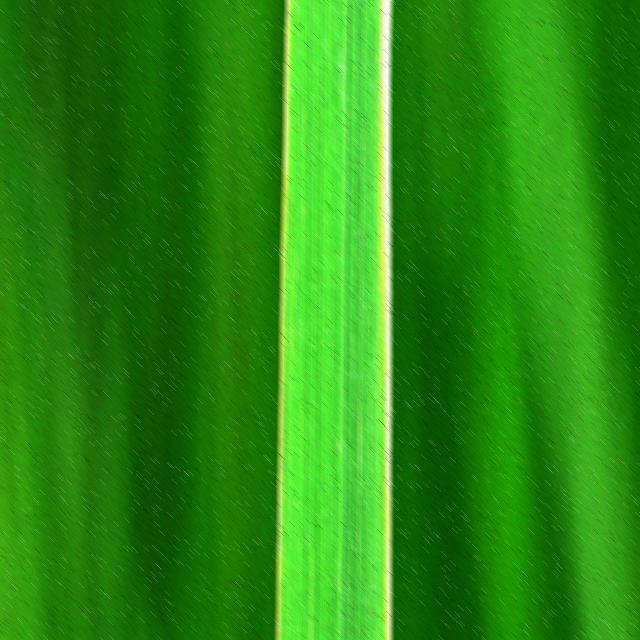BLB: (382, 0, 391, 638)
